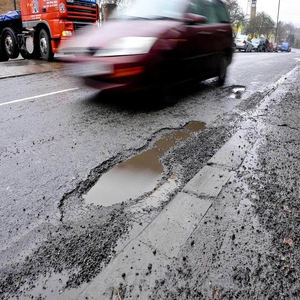pothole: (57, 114, 206, 210)
